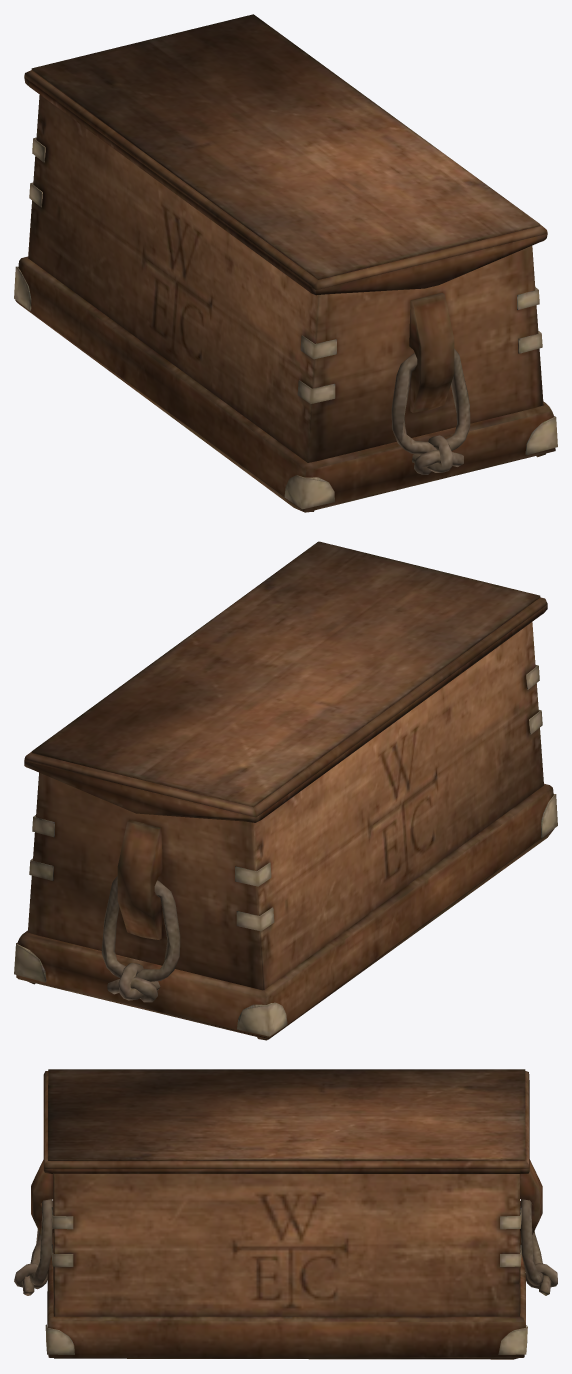
File: crate.glb
3 views of the same model, one above another, from view 1: azimuth 30°, elevation 25°; view 2: azimuth 150°, elevation 25°; view 3: azimuth 270°, elevation 25° (orthographic). The views are drawn at different scales.
Parts seen in each view (by area): view 1: wooden_crate_02_crate; view 2: wooden_crate_02_crate; view 3: wooden_crate_02_crate.
Boxes of the visible parts, x1=… form: wooden_crate_02_crate: x1=14, y1=14, x2=557, y2=512; wooden_crate_02_crate: x1=14, y1=541, x2=557, y2=1040; wooden_crate_02_crate: x1=14, y1=1069, x2=557, y2=1359.
Size of the model in its own units: 0.5291 by 0.464 by 1.16.
Materials: 1 (1 with a texture image).
